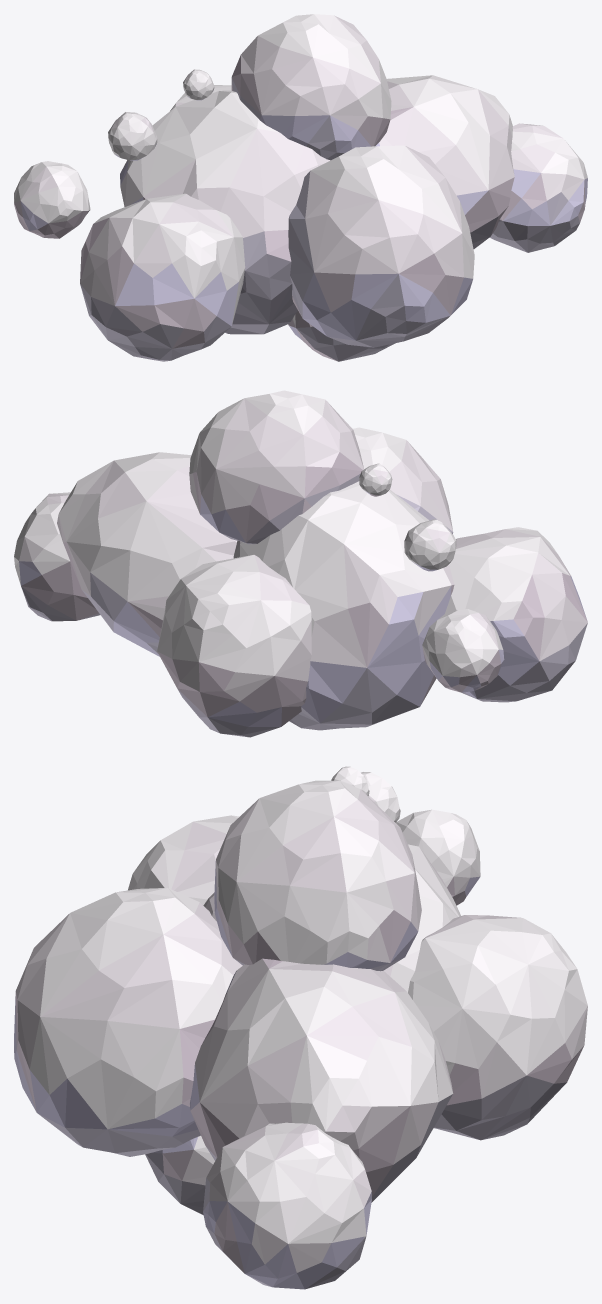
File: cloud.gltf
3 renders of one model, top to bottom at view 1: azimuth 30°, elevation 25°; view 2: azimuth 150°, elevation 25°; view 3: azimuth 270°, elevation 25°, orthographic. The views are drawn at different scales.
Visible parts, largest first — view 1: GeoSphere001, GeoSphere002, GeoSphere006, GeoSphere012, GeoSphere003, GeoSphere005, GeoSphere011, GeoSphere008, GeoSphere004, GeoSphere010; view 2: GeoSphere002, GeoSphere009, GeoSphere003, GeoSphere012, GeoSphere006, GeoSphere005, GeoSphere011, GeoSphere001, GeoSphere008, GeoSphere010; view 3: GeoSphere001, GeoSphere003, GeoSphere012, GeoSphere009, GeoSphere005, GeoSphere006, GeoSphere011, GeoSphere002, GeoSphere004, GeoSphere008.
Boxes of the visible parts, bbox=[...] form: GeoSphere001: bbox=[288, 145, 474, 347]; GeoSphere002: bbox=[120, 90, 330, 334]; GeoSphere006: bbox=[80, 193, 245, 361]; GeoSphere012: bbox=[231, 14, 391, 160]; GeoSphere003: bbox=[375, 75, 514, 248]; GeoSphere005: bbox=[490, 123, 587, 252]; GeoSphere011: bbox=[14, 161, 90, 238]; GeoSphere008: bbox=[108, 112, 157, 160]; GeoSphere004: bbox=[288, 311, 395, 361]; GeoSphere010: bbox=[183, 69, 214, 100]; GeoSphere002: bbox=[233, 481, 454, 730]; GeoSphere009: bbox=[157, 555, 311, 737]; GeoSphere003: bbox=[57, 452, 237, 656]; GeoSphere012: bbox=[189, 390, 363, 544]; GeoSphere006: bbox=[445, 527, 587, 702]; GeoSphere005: bbox=[14, 492, 100, 621]; GeoSphere011: bbox=[422, 609, 504, 692]; GeoSphere001: bbox=[353, 427, 453, 533]; GeoSphere008: bbox=[404, 519, 456, 571]; GeoSphere010: bbox=[359, 463, 392, 496]; GeoSphere001: bbox=[14, 888, 242, 1156]; GeoSphere003: bbox=[190, 958, 453, 1202]; GeoSphere012: bbox=[214, 780, 421, 971]; GeoSphere009: bbox=[408, 915, 587, 1140]; GeoSphere005: bbox=[203, 1122, 371, 1289]; GeoSphere006: bbox=[128, 815, 239, 905]; GeoSphere011: bbox=[396, 809, 480, 905]; GeoSphere002: bbox=[203, 844, 460, 992]; GeoSphere004: bbox=[145, 1135, 214, 1215]; GeoSphere008: bbox=[361, 772, 400, 822].
Bounding box in the file's own units: 2.13 × 1.27 × 1.57.
1 material, 1 textured.
